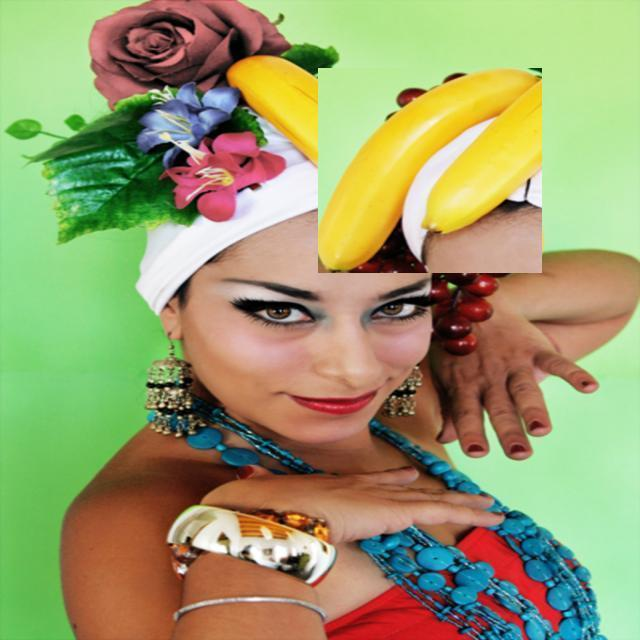Banana: (318, 68, 542, 273), (229, 50, 317, 163)
